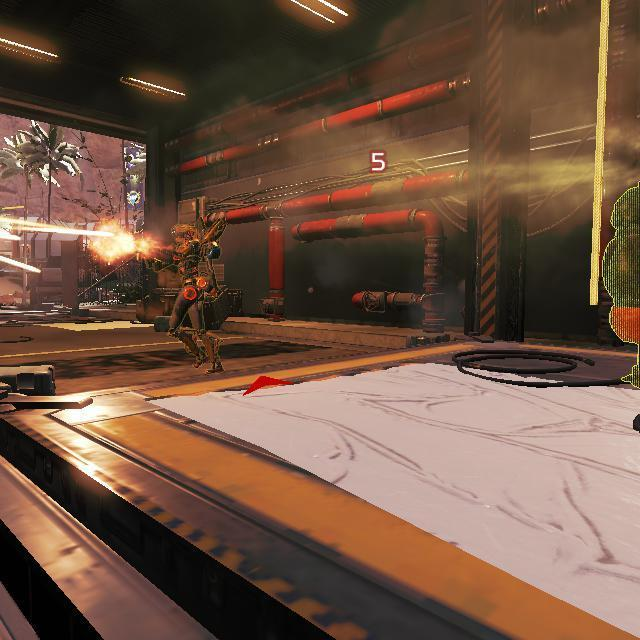avatar: (165, 216, 229, 376)
